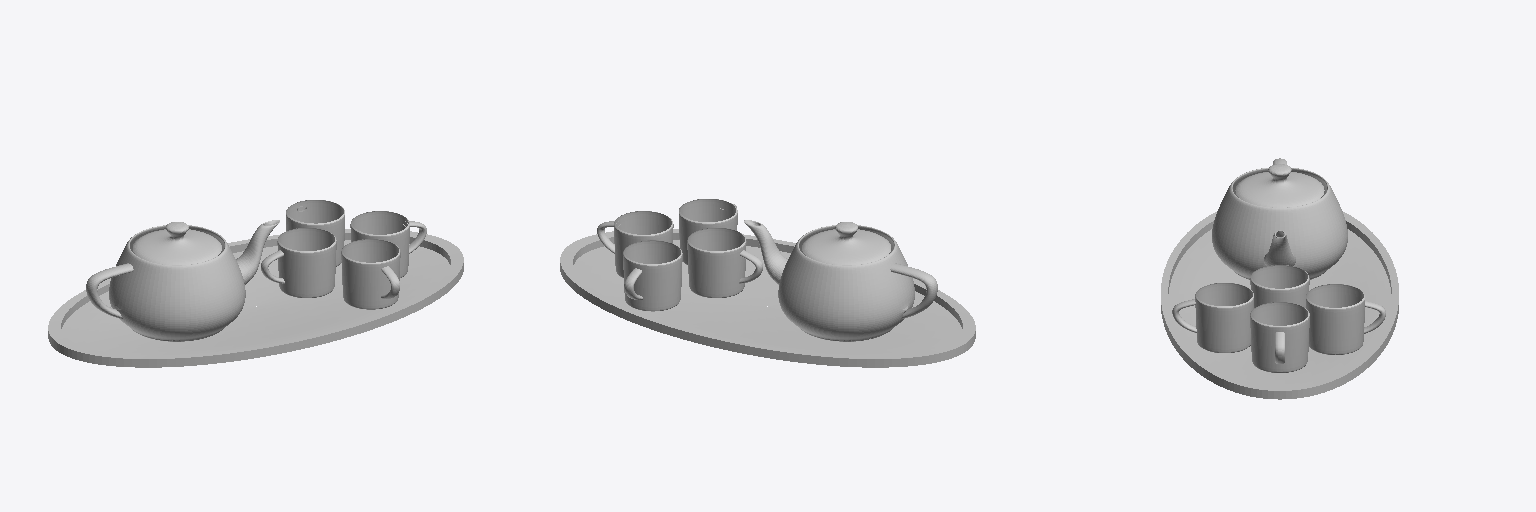
File: teapot.obj
The picture shows the model from 3 angles: view 1: azimuth 30°, elevation 25°; view 2: azimuth 150°, elevation 25°; view 3: azimuth 270°, elevation 25°; orthographic projection.
Visible parts, largest first — view 1: Plate_Cylinder.002, Teapot, Cylinder.003, Cup.001_Cylinder, Cup_Cylinder.005, Teapot.001, Cup.002_Cylinder.001, Cup.003_Cylinder.004, Teapot.003, Teapot.002; view 2: Plate_Cylinder.002, Teapot, Cylinder.003, Cup.001_Cylinder, Cup.003_Cylinder.004, Teapot.001, Cup.002_Cylinder.001, Cup_Cylinder.005, Teapot.003, Teapot.002; view 3: Plate_Cylinder.002, Teapot, Cylinder.003, Cup.003_Cylinder.004, Cup_Cylinder.005, Cup.002_Cylinder.001, Teapot.001, Cup.001_Cylinder, Teapot.003.
Boxes of the visible parts, box(x1,y1,x2,y2) form: Plate_Cylinder.002: box(62, 240, 449, 354); Teapot: box(109, 225, 245, 341); Cylinder.003: box(48, 229, 463, 367); Cup.001_Cylinder: box(277, 228, 336, 297); Cup_Cylinder.005: box(341, 239, 400, 309); Teapot.001: box(133, 222, 221, 264); Cup.002_Cylinder.001: box(350, 211, 409, 277); Cup.003_Cylinder.004: box(286, 200, 344, 266); Teapot.003: box(236, 220, 279, 284); Teapot.002: box(86, 263, 133, 318); Plate_Cylinder.002: box(574, 240, 961, 354); Teapot: box(778, 225, 914, 341); Cylinder.003: box(560, 229, 975, 367); Cup.001_Cylinder: box(687, 228, 746, 297); Cup.003_Cylinder.004: box(623, 240, 682, 311); Teapot.001: box(802, 222, 890, 264); Cup.002_Cylinder.001: box(614, 211, 673, 277); Cup_Cylinder.005: box(679, 199, 737, 264); Teapot.003: box(744, 220, 787, 284); Teapot.002: box(890, 263, 937, 318); Plate_Cylinder.002: box(1168, 229, 1391, 384); Teapot: box(1212, 168, 1347, 279); Cylinder.003: box(1161, 212, 1398, 399); Cup.003_Cylinder.004: box(1306, 284, 1364, 354); Cup_Cylinder.005: box(1195, 283, 1253, 352); Cup.002_Cylinder.001: box(1250, 302, 1309, 372); Teapot.001: box(1235, 164, 1324, 207); Cup.001_Cylinder: box(1250, 265, 1309, 307); Teapot.003: box(1264, 230, 1295, 265).
Bounding box in the file's own units: 11.43 × 2.78 × 5.93.